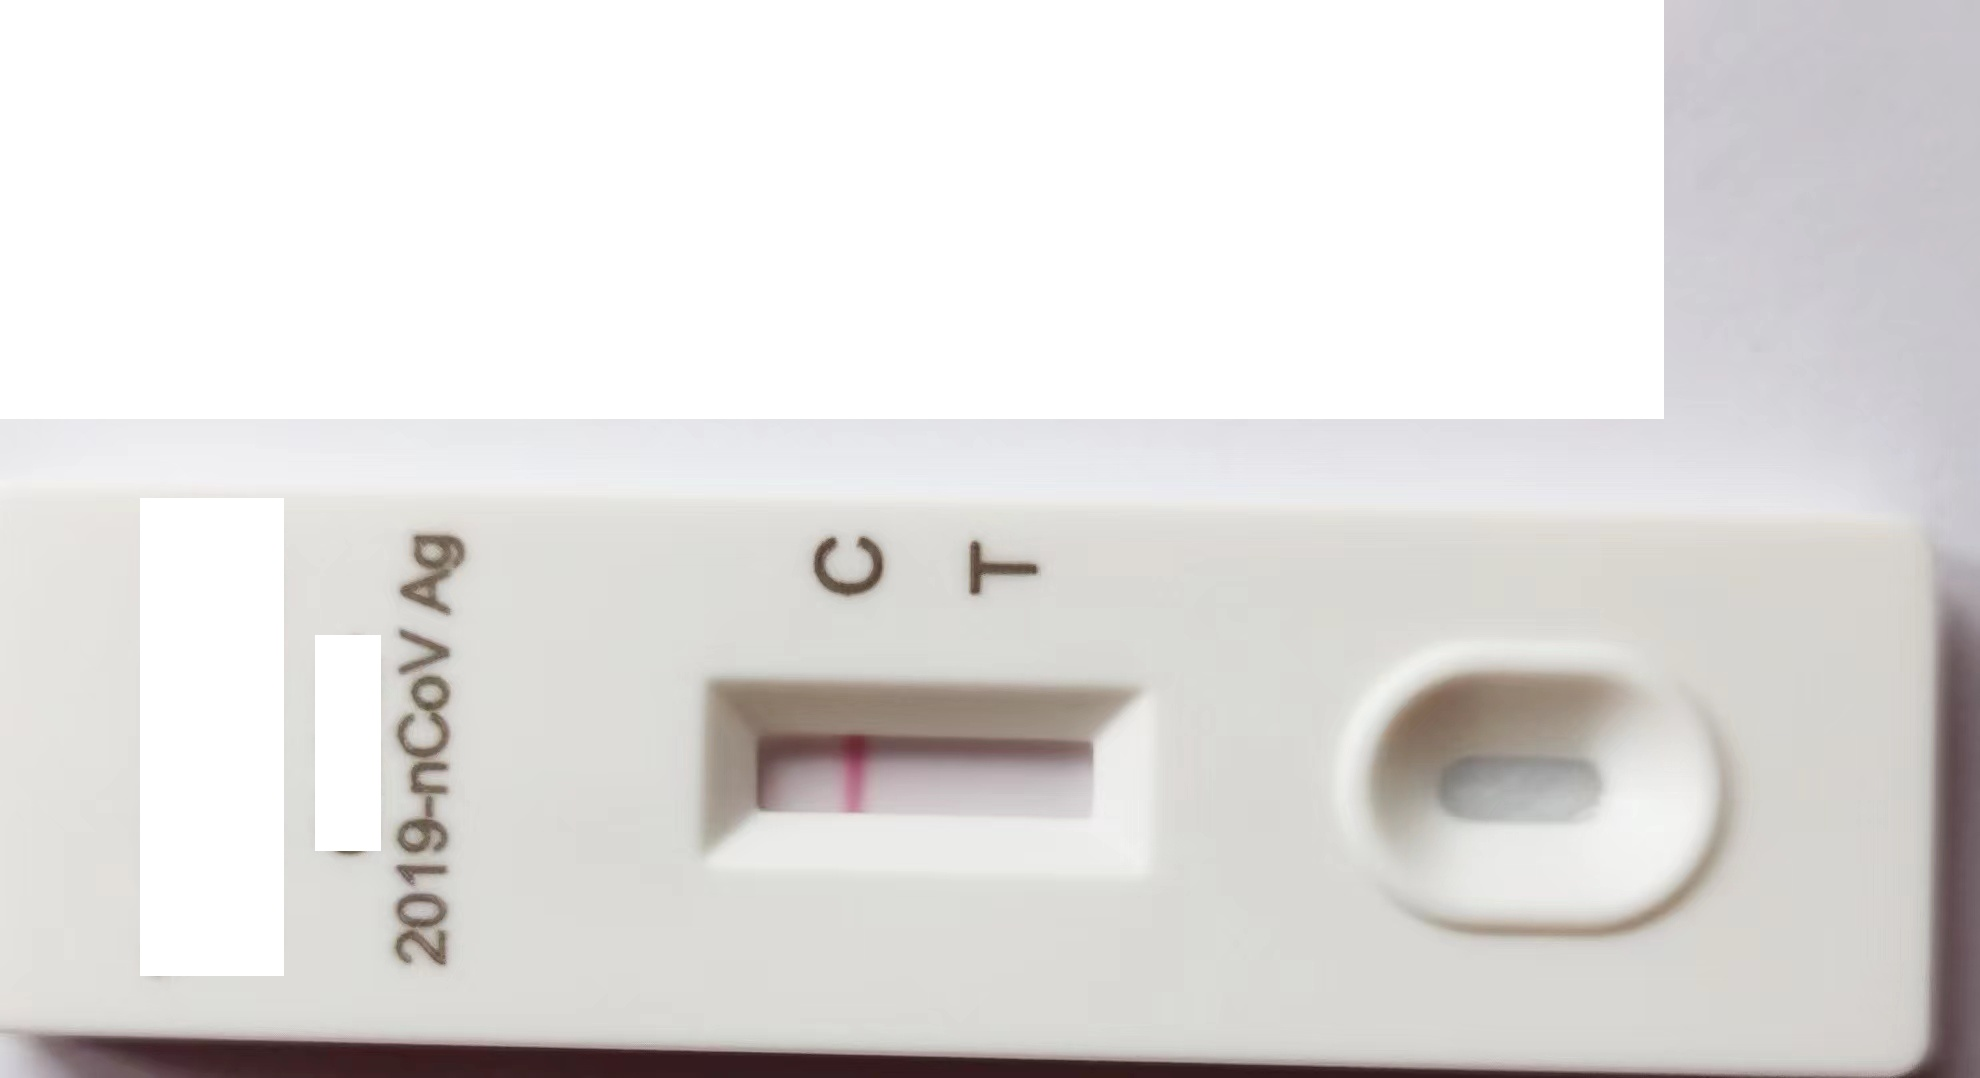negative: (702, 678, 1151, 862)
